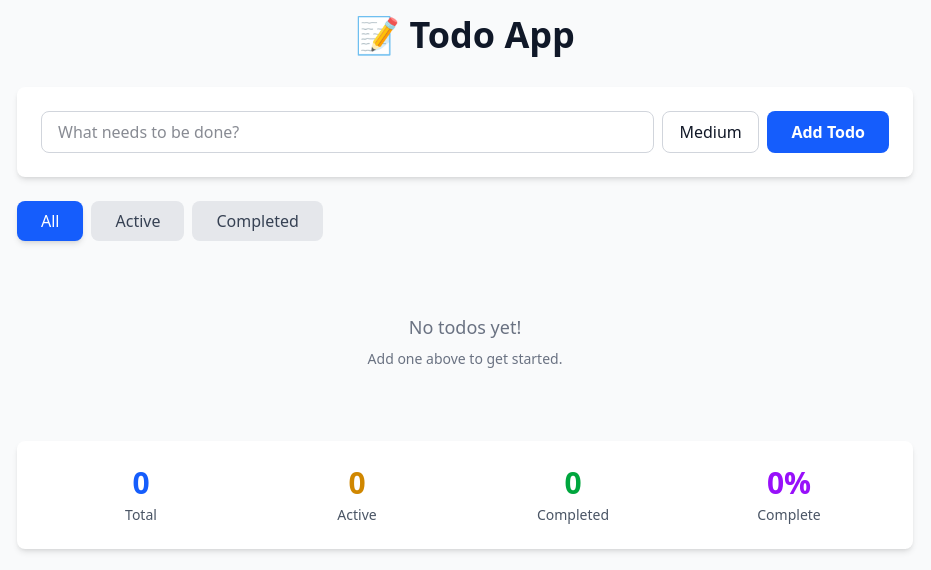
Test: Todo App - E2E Tests › Edit Workflows › can edit todo by clicking edit button
In the field with placeholder "What needs to be done?": (348, 132) [58,120,638,144], type "Original text"
Then press Enter
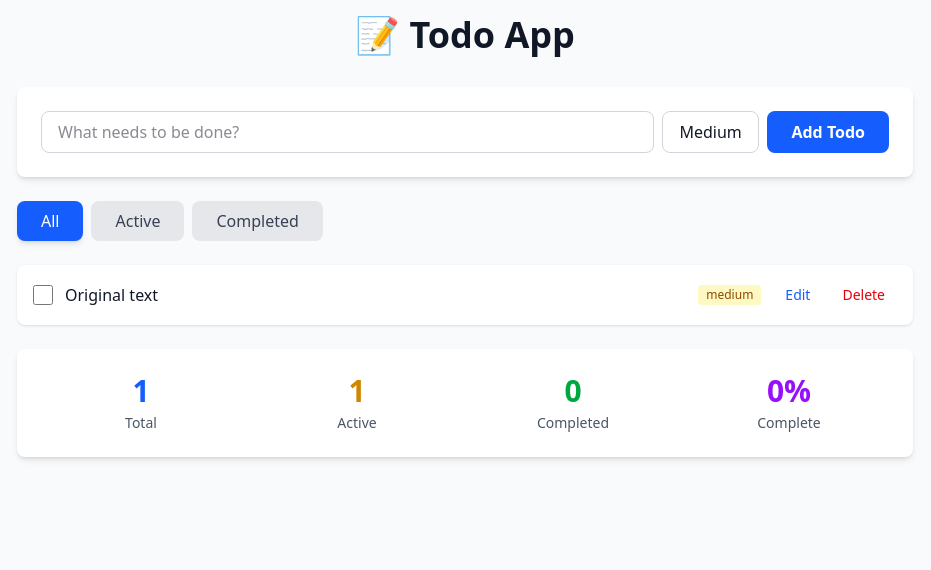
Click the button with test id "edit-button": (798, 295) [773,281,822,309]
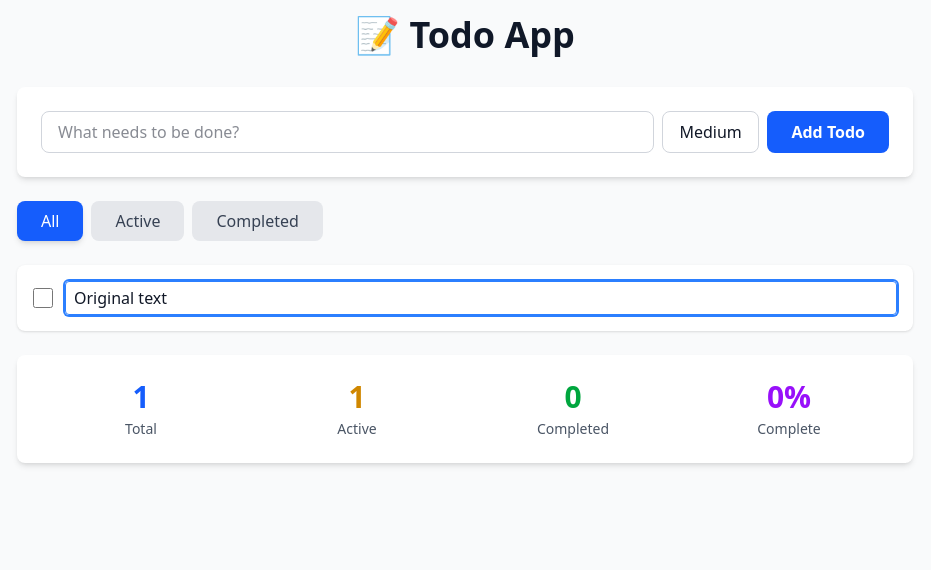
Now the field with test id "todo-edit-input" is shown
Replace the text in the field with test id "todo-edit-input" with "Updated text": (481, 298) [65,281,897,315]
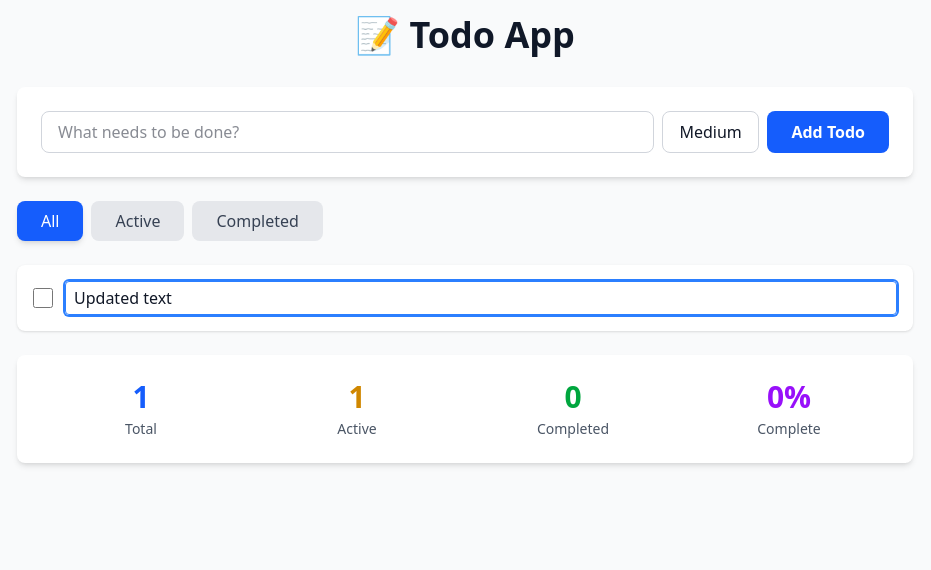
Press Enter in the field with test id "todo-edit-input", box [65,281,897,315]
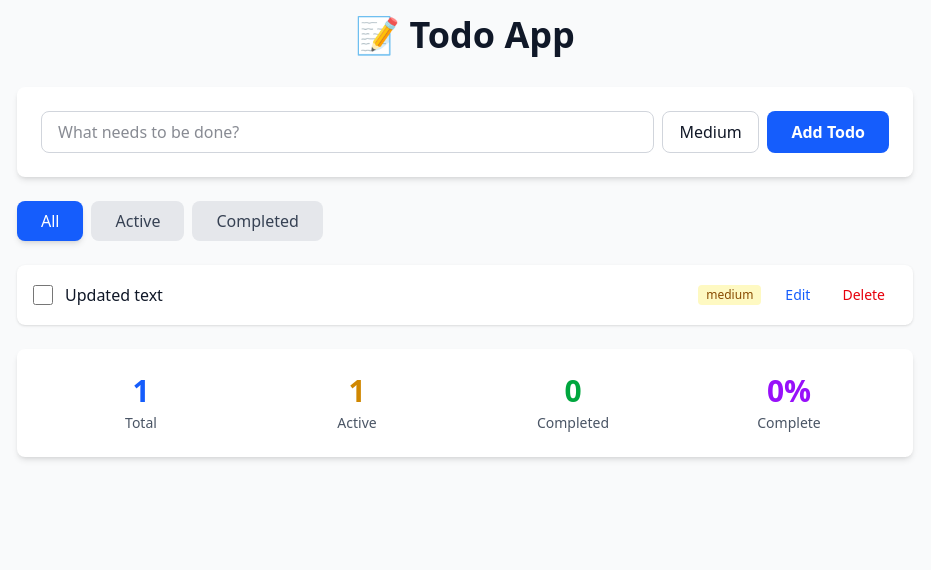
Expected: the text "Original text" is not shown
Now the text "Updated text" is shown, box [65,284,163,306]
